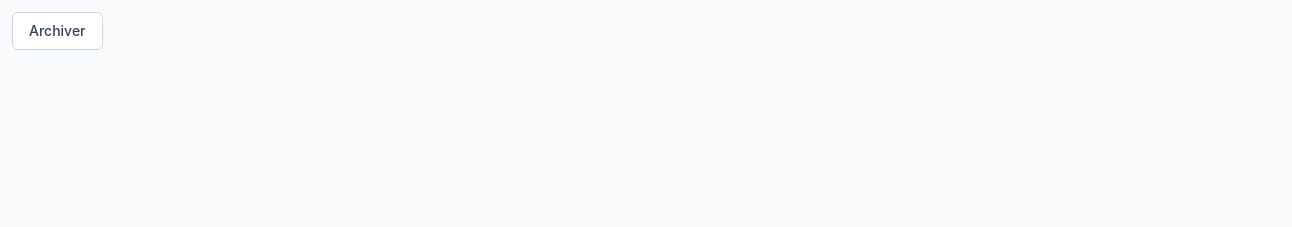
Test case: ConfirmAction › erreur de l'API : le message d'erreur s'affiche et la confirmation reste ouverte
What coordinates should you click on to do the following:
click the button "Archiver"
I would click on:
 (57, 31)
Its box is [12,12,102,50].
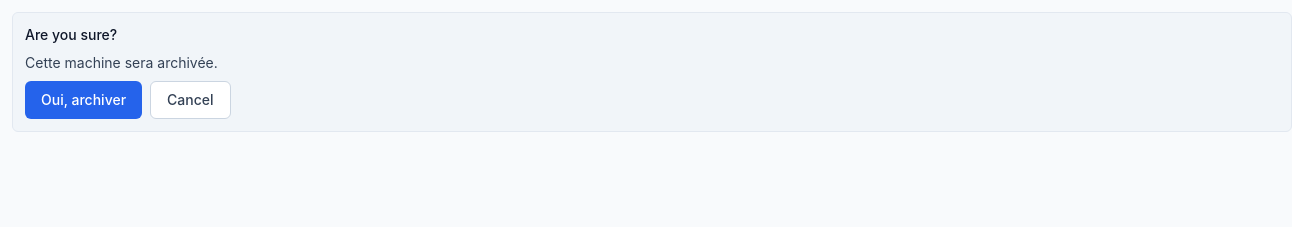
What coordinates should you click on to do the following:
click the button "Oui, archiver"
I would click on:
 (84, 100)
Its box is [25,81,142,119].
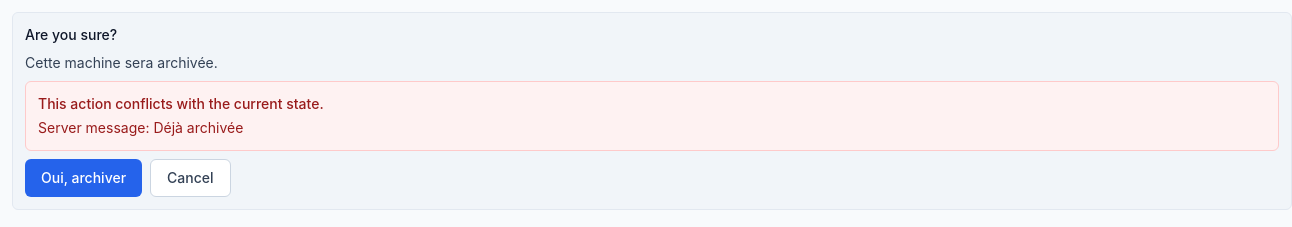
Expected: the text "Cette machine sera archivée." is shown, [25,54,218,71]
Expected: the message "This action conflicts with the current state. Server message: Déjà archivée" is shown, [25,81,1279,151]
